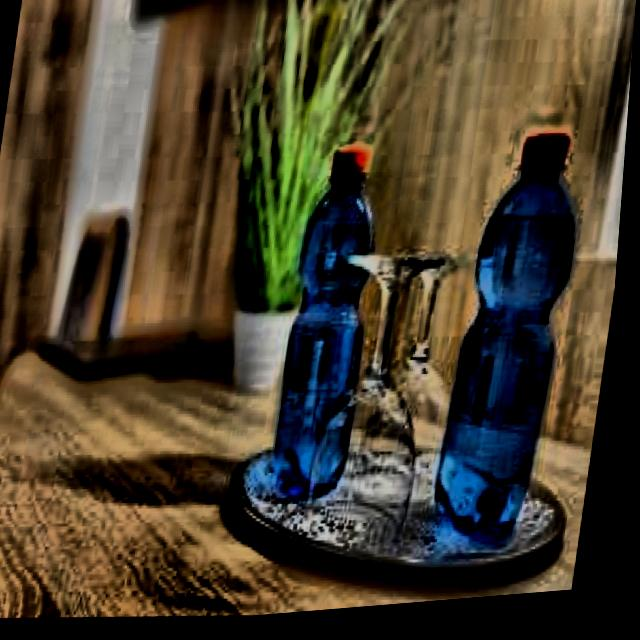Bottles: (427, 117, 604, 574), (269, 135, 398, 508)
